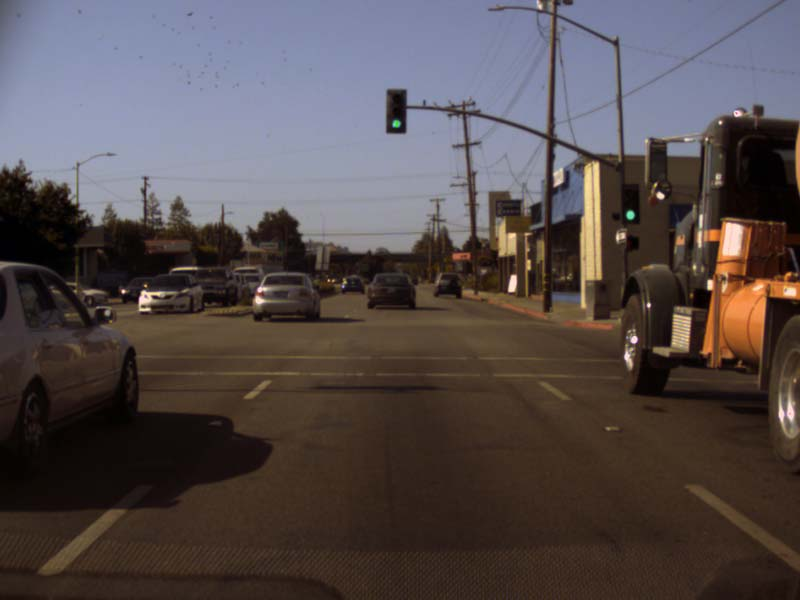Green: (386, 87, 405, 133), (620, 183, 638, 224)
